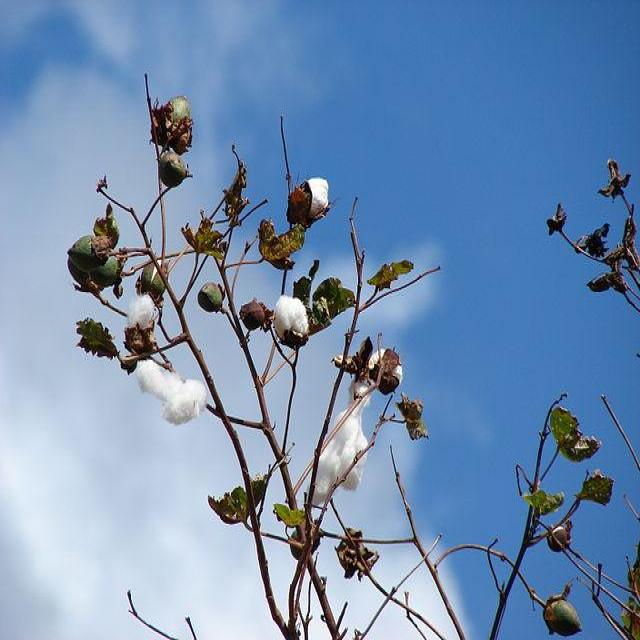Late_blight: (310, 383, 369, 507), (131, 358, 209, 426), (283, 175, 333, 228), (271, 291, 311, 354), (364, 338, 403, 396), (125, 292, 162, 353)
